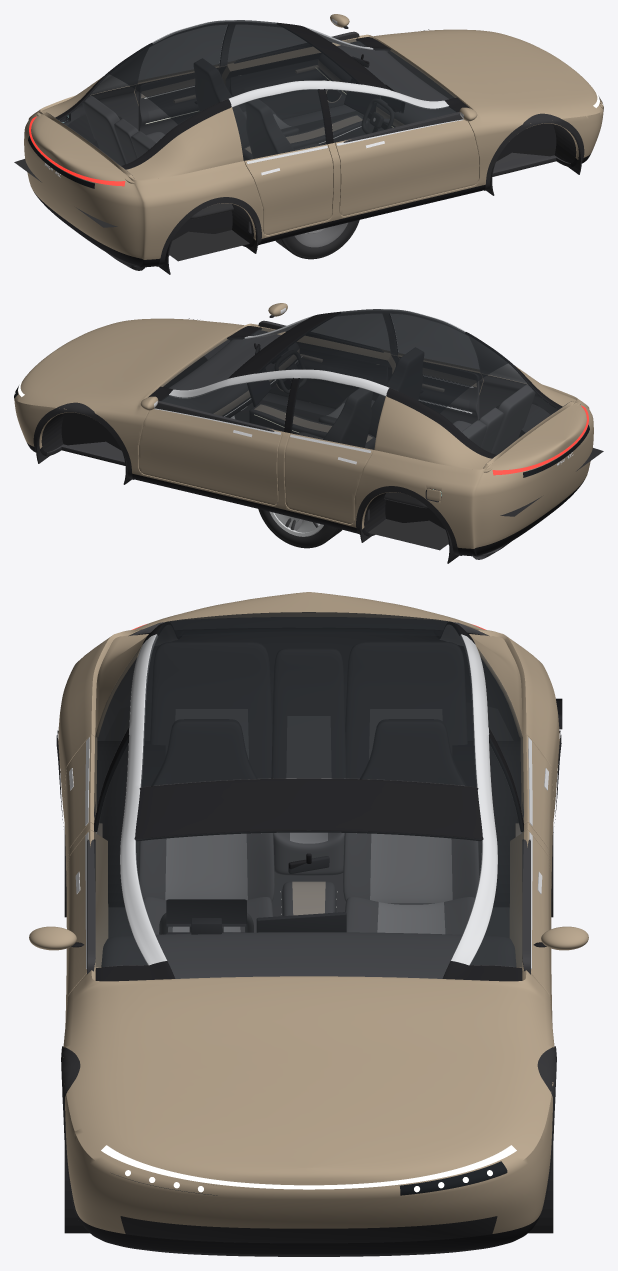
The model's file is car.glb.
The picture shows the model from 3 angles, top to bottom: view 1: azimuth 30°, elevation 25°; view 2: azimuth 150°, elevation 25°; view 3: azimuth 270°, elevation 25°; orthographic projection. The views are drawn at different scales.
Parts seen in each view (by area): view 1: Body, Canopy, Cabin, DoorR, CanopyFrame, DoorL, Trim, Tire, TailLamp, Barrel, Steering, ScreenCenter; view 2: Body, Canopy, Cabin, DoorL, CanopyFrame, Trim, DoorR, Tire, TailLamp, Steering, Barrel, ScreenCenter; view 3: Body, Canopy, Cabin, CanopyFrame, Trim, DoorR, DoorL, HeadLamp.
Part boxes in pixels (x1,y1,x2,y2): Body: (24,29,603,270); Canopy: (59,20,456,165); Cabin: (14,41,455,261); DoorR: (325,89,478,215); CanopyFrame: (36,20,469,183); DoorL: (222,14,367,119); Trim: (60,29,584,274); Tire: (275,220,359,259); TailLamp: (28,116,125,188); Barrel: (294,222,347,247); Steering: (361,98,394,134); ScreenCenter: (344,80,377,113); Body: (14,318,593,559); Canopy: (161,309,558,454); Cabin: (162,330,603,550); DoorL: (139,378,292,504); CanopyFrame: (148,309,580,472); Trim: (33,318,550,563); DoorR: (250,303,395,408); Tire: (258,509,342,548); TailLamp: (492,405,589,477); Steering: (275,350,306,393); Barrel: (269,511,323,536); ScreenCenter: (249,368,271,404); Body: (58,592,559,1256); Canopy: (94,612,523,978); Cabin: (94,642,523,978); CanopyFrame: (94,622,523,981); Trim: (56,698,562,1233); DoorR: (29,737,147,1024); DoorL: (470,737,588,1024); HeadLamp: (101,1145,516,1195).
Bounding box in the file's own units: 4.68 × 1.91 × 2.19.
